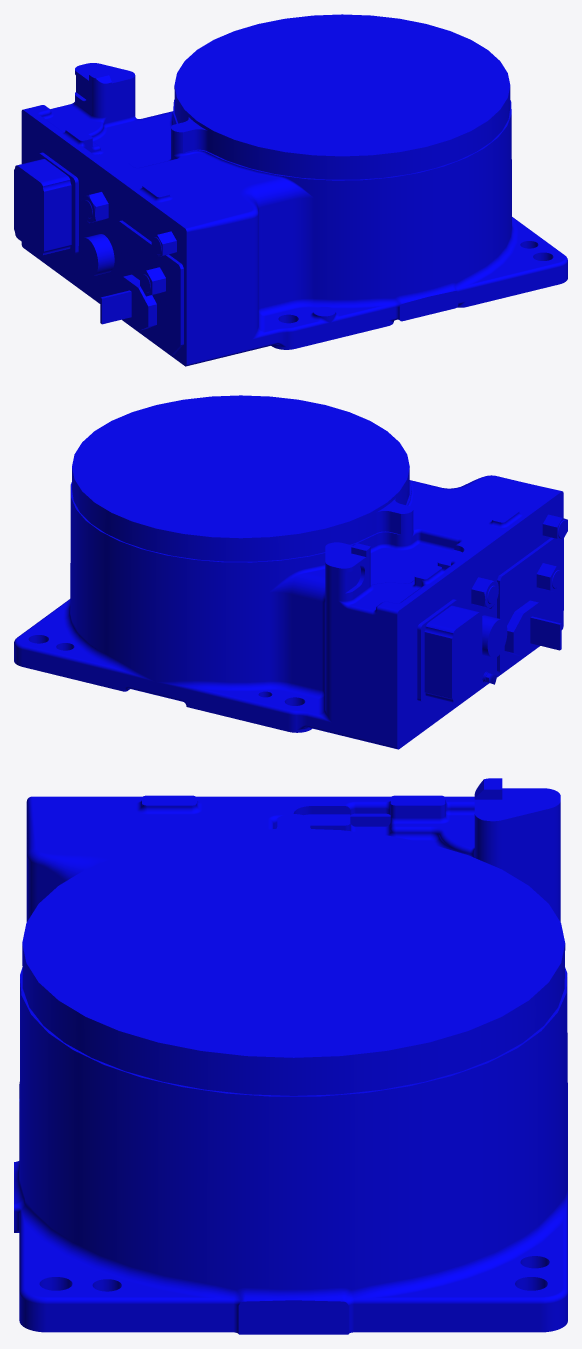
3 renders of one model, top to bottom at view 1: azimuth 30°, elevation 25°; view 2: azimuth 150°, elevation 25°; view 3: azimuth 270°, elevation 25°, orthographic. The views are drawn at different scales.
Parts seen in each view (by area): view 1: gp12_base_link; view 2: gp12_base_link; view 3: gp12_base_link.
Boxes of the visible parts, x1,y1,x2,y2 form: gp12_base_link: (14,14,567,366); gp12_base_link: (14,395,567,749); gp12_base_link: (14,778,567,1334).
Size of the model in its own units: 0.4384 by 0.303 by 0.1745.
